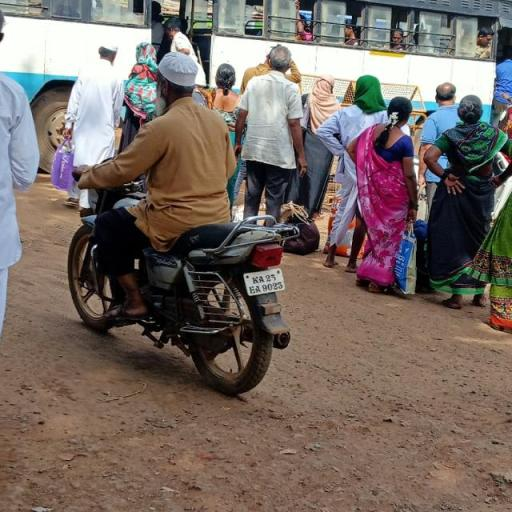bike: (60, 47, 310, 398)
numberplate: (239, 264, 290, 298)
withouthelmet: (154, 52, 204, 98)
